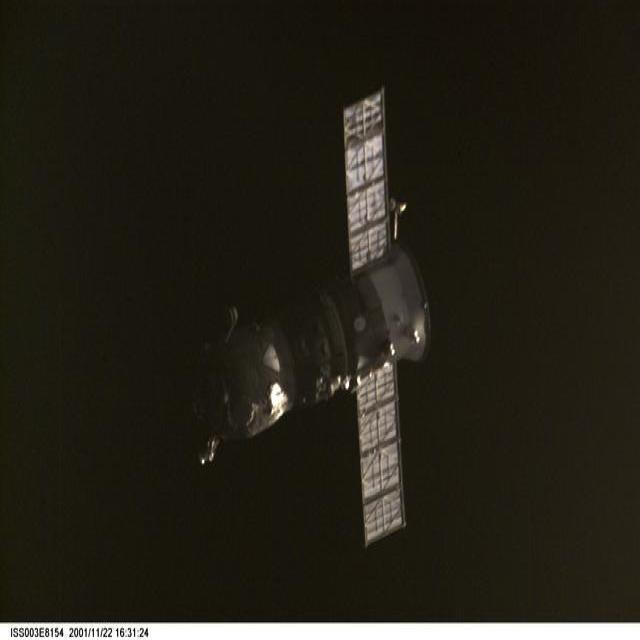medium_debris: (195, 90, 430, 543)
